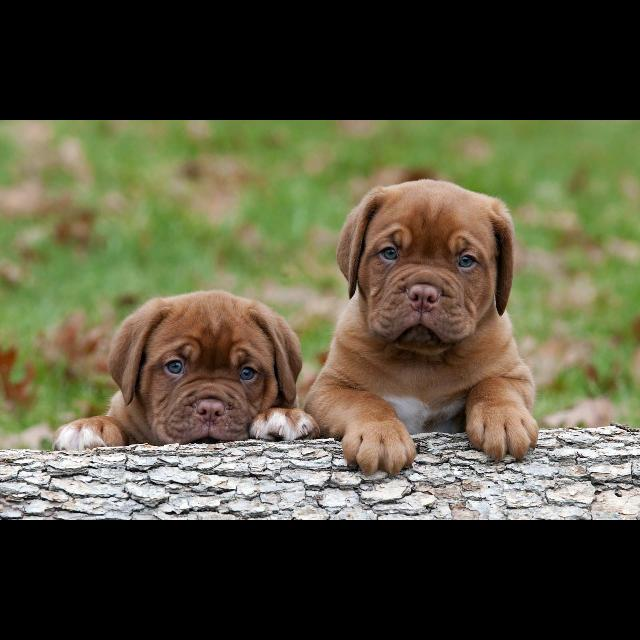dogue_de_bordeaux: (304, 179, 540, 478), (53, 290, 321, 453)
